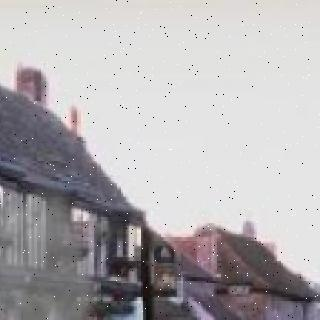smoke: (0, 136, 108, 320)
